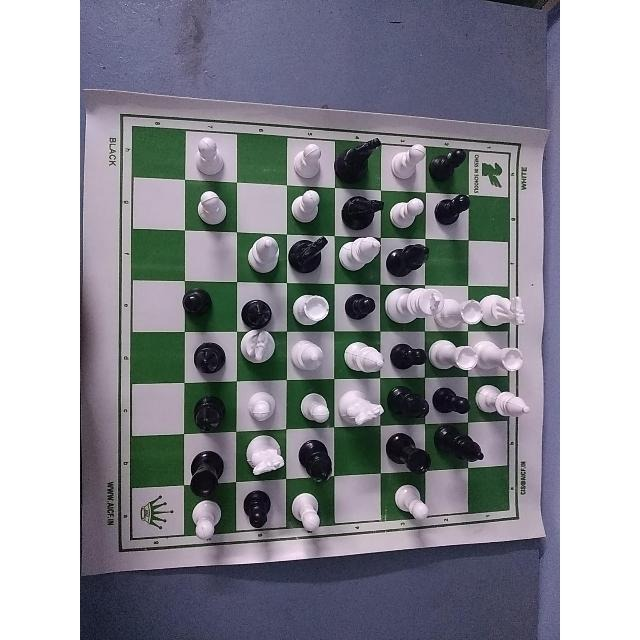black-bishop: (189, 388, 236, 436), (384, 238, 436, 281), (439, 426, 487, 471), (187, 338, 231, 385), (384, 386, 432, 428), (238, 283, 282, 326), (297, 437, 338, 483)
black-knight: (339, 128, 387, 180), (339, 184, 389, 233), (288, 233, 336, 281)
black-pawn: (168, 275, 219, 332), (430, 134, 479, 180), (430, 183, 478, 229), (238, 488, 282, 536), (336, 285, 377, 331), (390, 331, 426, 372), (434, 383, 467, 424)
black-rook: (178, 444, 225, 497), (386, 429, 432, 477)
white-bishop: (334, 234, 380, 278), (479, 388, 533, 424), (239, 232, 281, 276), (284, 339, 329, 375), (347, 339, 383, 375)
white-knight: (382, 280, 442, 328), (242, 425, 286, 480), (482, 288, 524, 332), (336, 384, 380, 426), (238, 331, 278, 372)
white-pawn: (392, 479, 434, 533), (179, 500, 224, 547), (192, 184, 236, 232), (284, 136, 328, 184), (282, 186, 334, 226), (297, 381, 334, 431), (186, 133, 228, 177), (389, 136, 431, 180), (290, 487, 330, 531), (240, 384, 281, 423), (390, 197, 432, 229)
white-rook: (428, 336, 476, 377), (291, 287, 337, 328), (483, 336, 525, 376), (443, 292, 479, 323)
